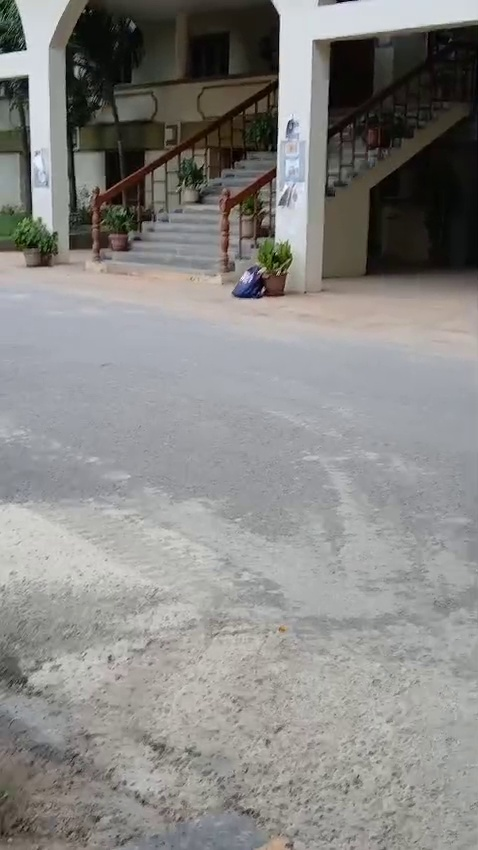bag: (227, 257, 269, 307)
